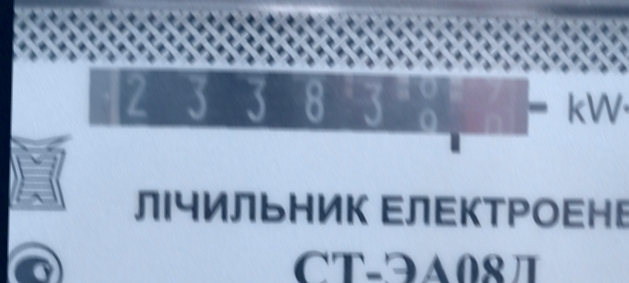0: (482, 111, 504, 137)
2: (124, 72, 149, 119)
3: (240, 74, 270, 124), (182, 72, 211, 121), (359, 80, 384, 126)
8: (299, 77, 327, 124), (416, 74, 440, 101)
9: (482, 74, 504, 105), (416, 106, 438, 135)
screen: (75, 57, 550, 158)
